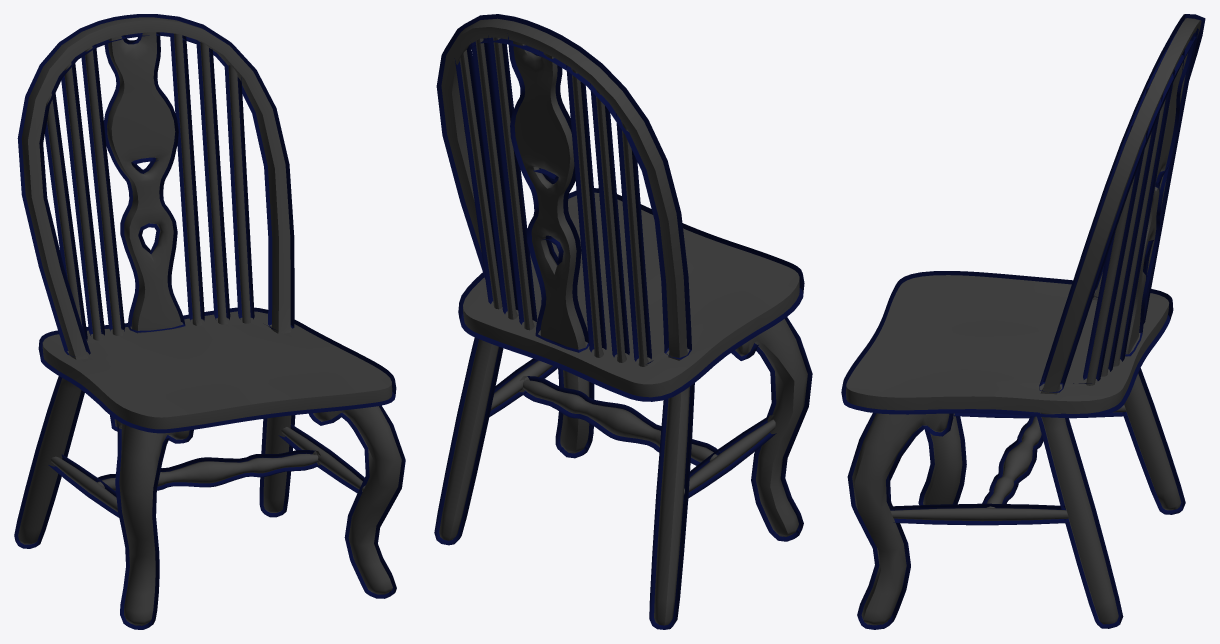
3 renders of one model, left to right at view 1: azimuth 30°, elevation 25°; view 2: azimuth 150°, elevation 25°; view 3: azimuth 270°, elevation 25°, orthographic. The views are drawn at different scales.
Visible parts, largest first — view 1: Chair_Dining_Left; view 2: Chair_Dining_Left; view 3: Chair_Dining_Left.
Boxes of the visible parts, x1=… form: Chair_Dining_Left: x1=14, y1=14, x2=405, y2=629; Chair_Dining_Left: x1=434, y1=14, x2=812, y2=629; Chair_Dining_Left: x1=841, y1=14, x2=1205, y2=629.
Bounding box in the file's own units: 0.5514 × 1.05 × 0.6412.
